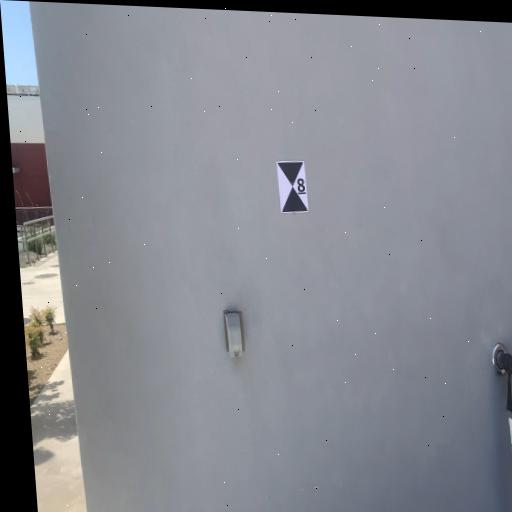target8: (276, 160, 310, 212)
